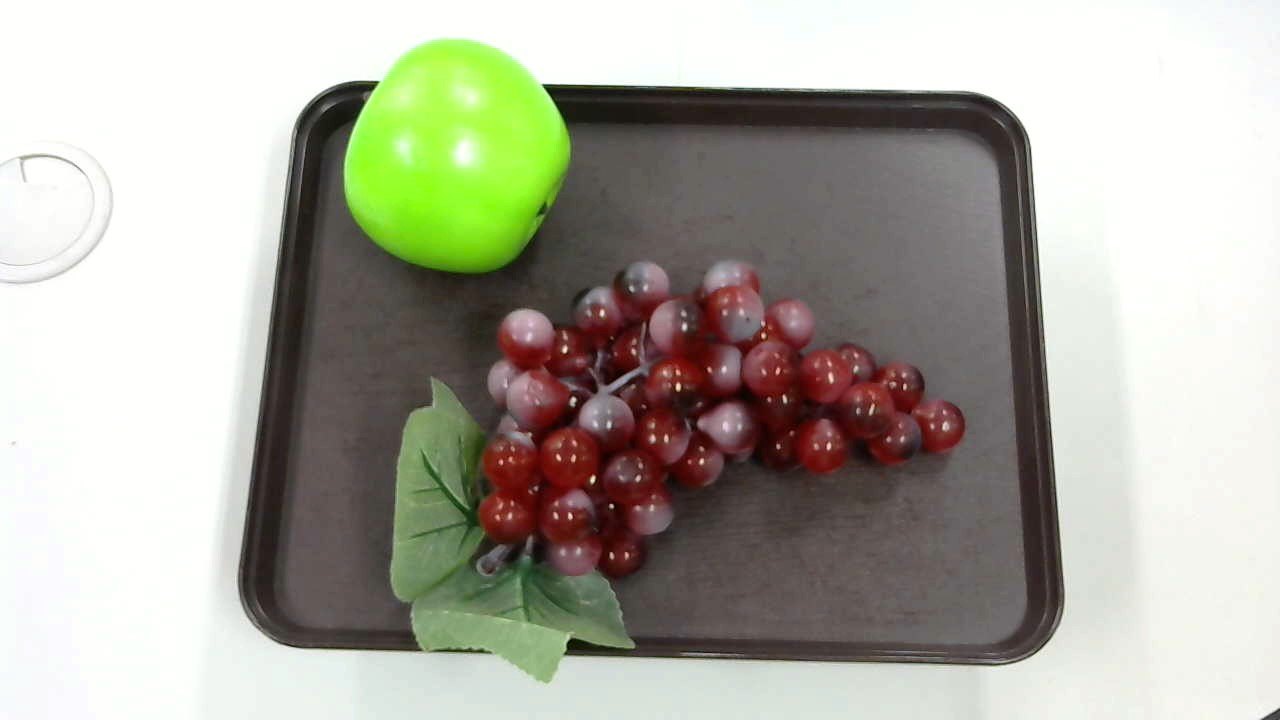grape: (381, 258, 968, 678)
green apple: (339, 34, 571, 278)
